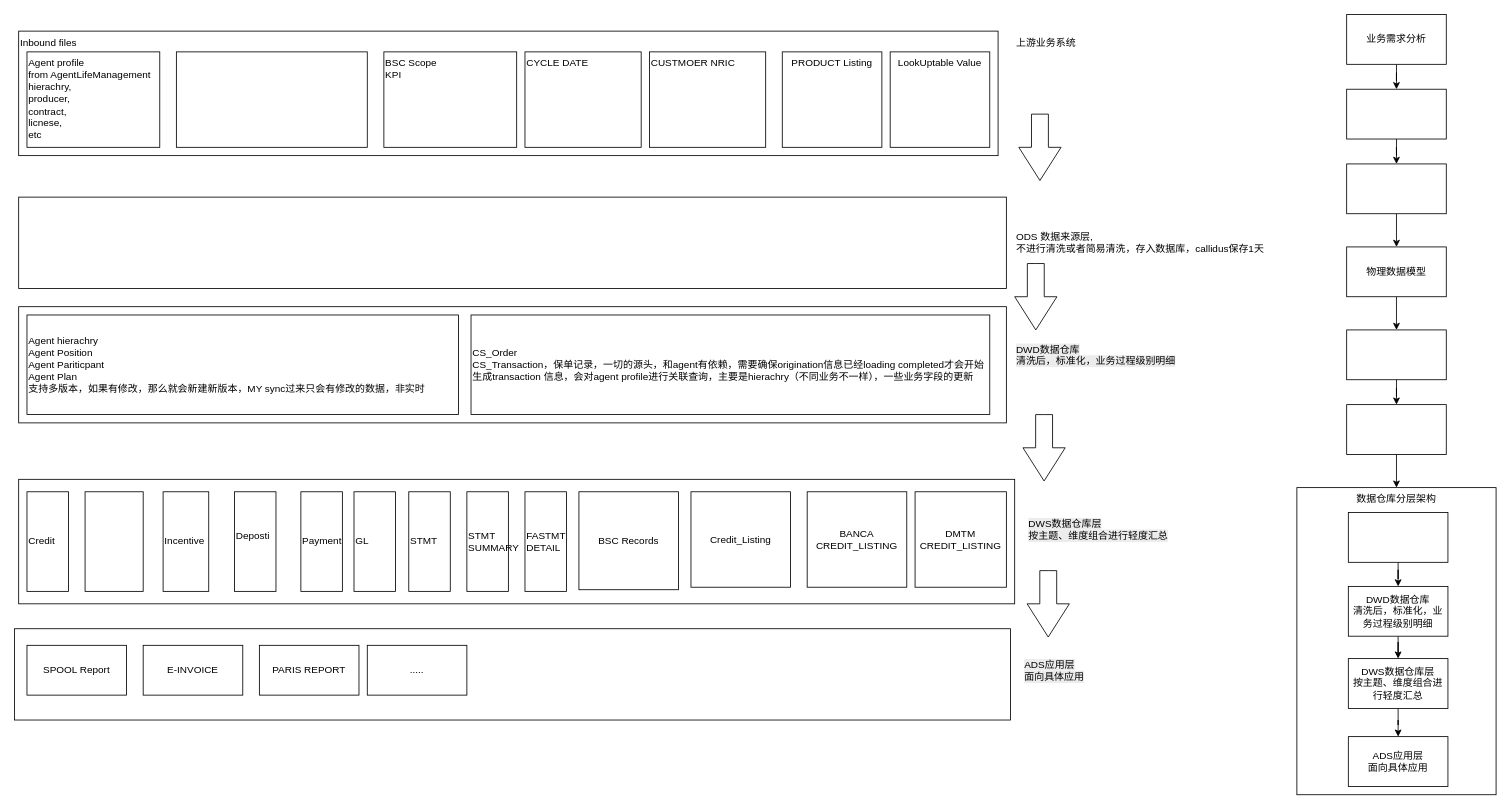
Image size: 1511x809. Some labels were removed from this diagram. The centre of each missing label's shape, as x and y in pixels:
"ETL设计" belongs at (1396,354).
"LA/TK/IL/POLA/OLD/STMT/PRECASE /MANTXN/COMPAURD Transaction FeedFiles" belongs at (271,99).
"Measurment" belongs at (113,541).
"ODS操作数据存储 原始数据同步" belongs at (1398,537).
"STAGE TABLE 只对某些字段进行空格的去除，日期格式的转换，数据基本和source file一致." belongs at (512,242).
"数据集市设计" belongs at (1396,429).
"概念模型数据" belongs at (1396,113).
"逻辑数据模型" belongs at (1396,188).
